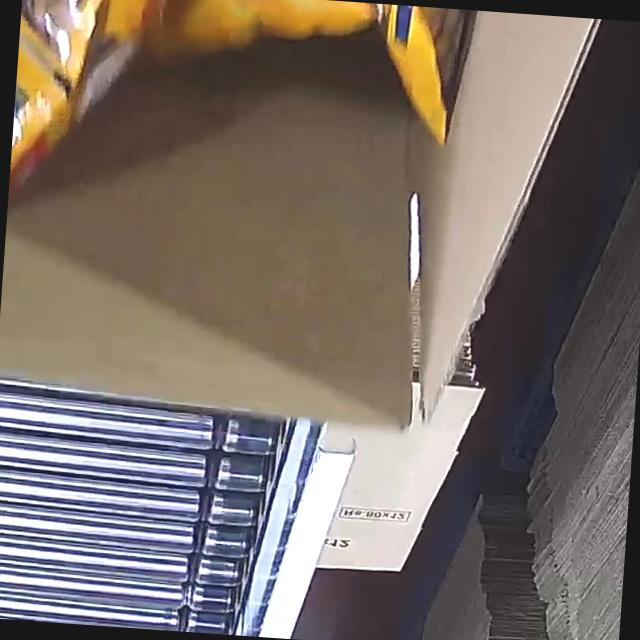cheese: (9, 0, 514, 217)
